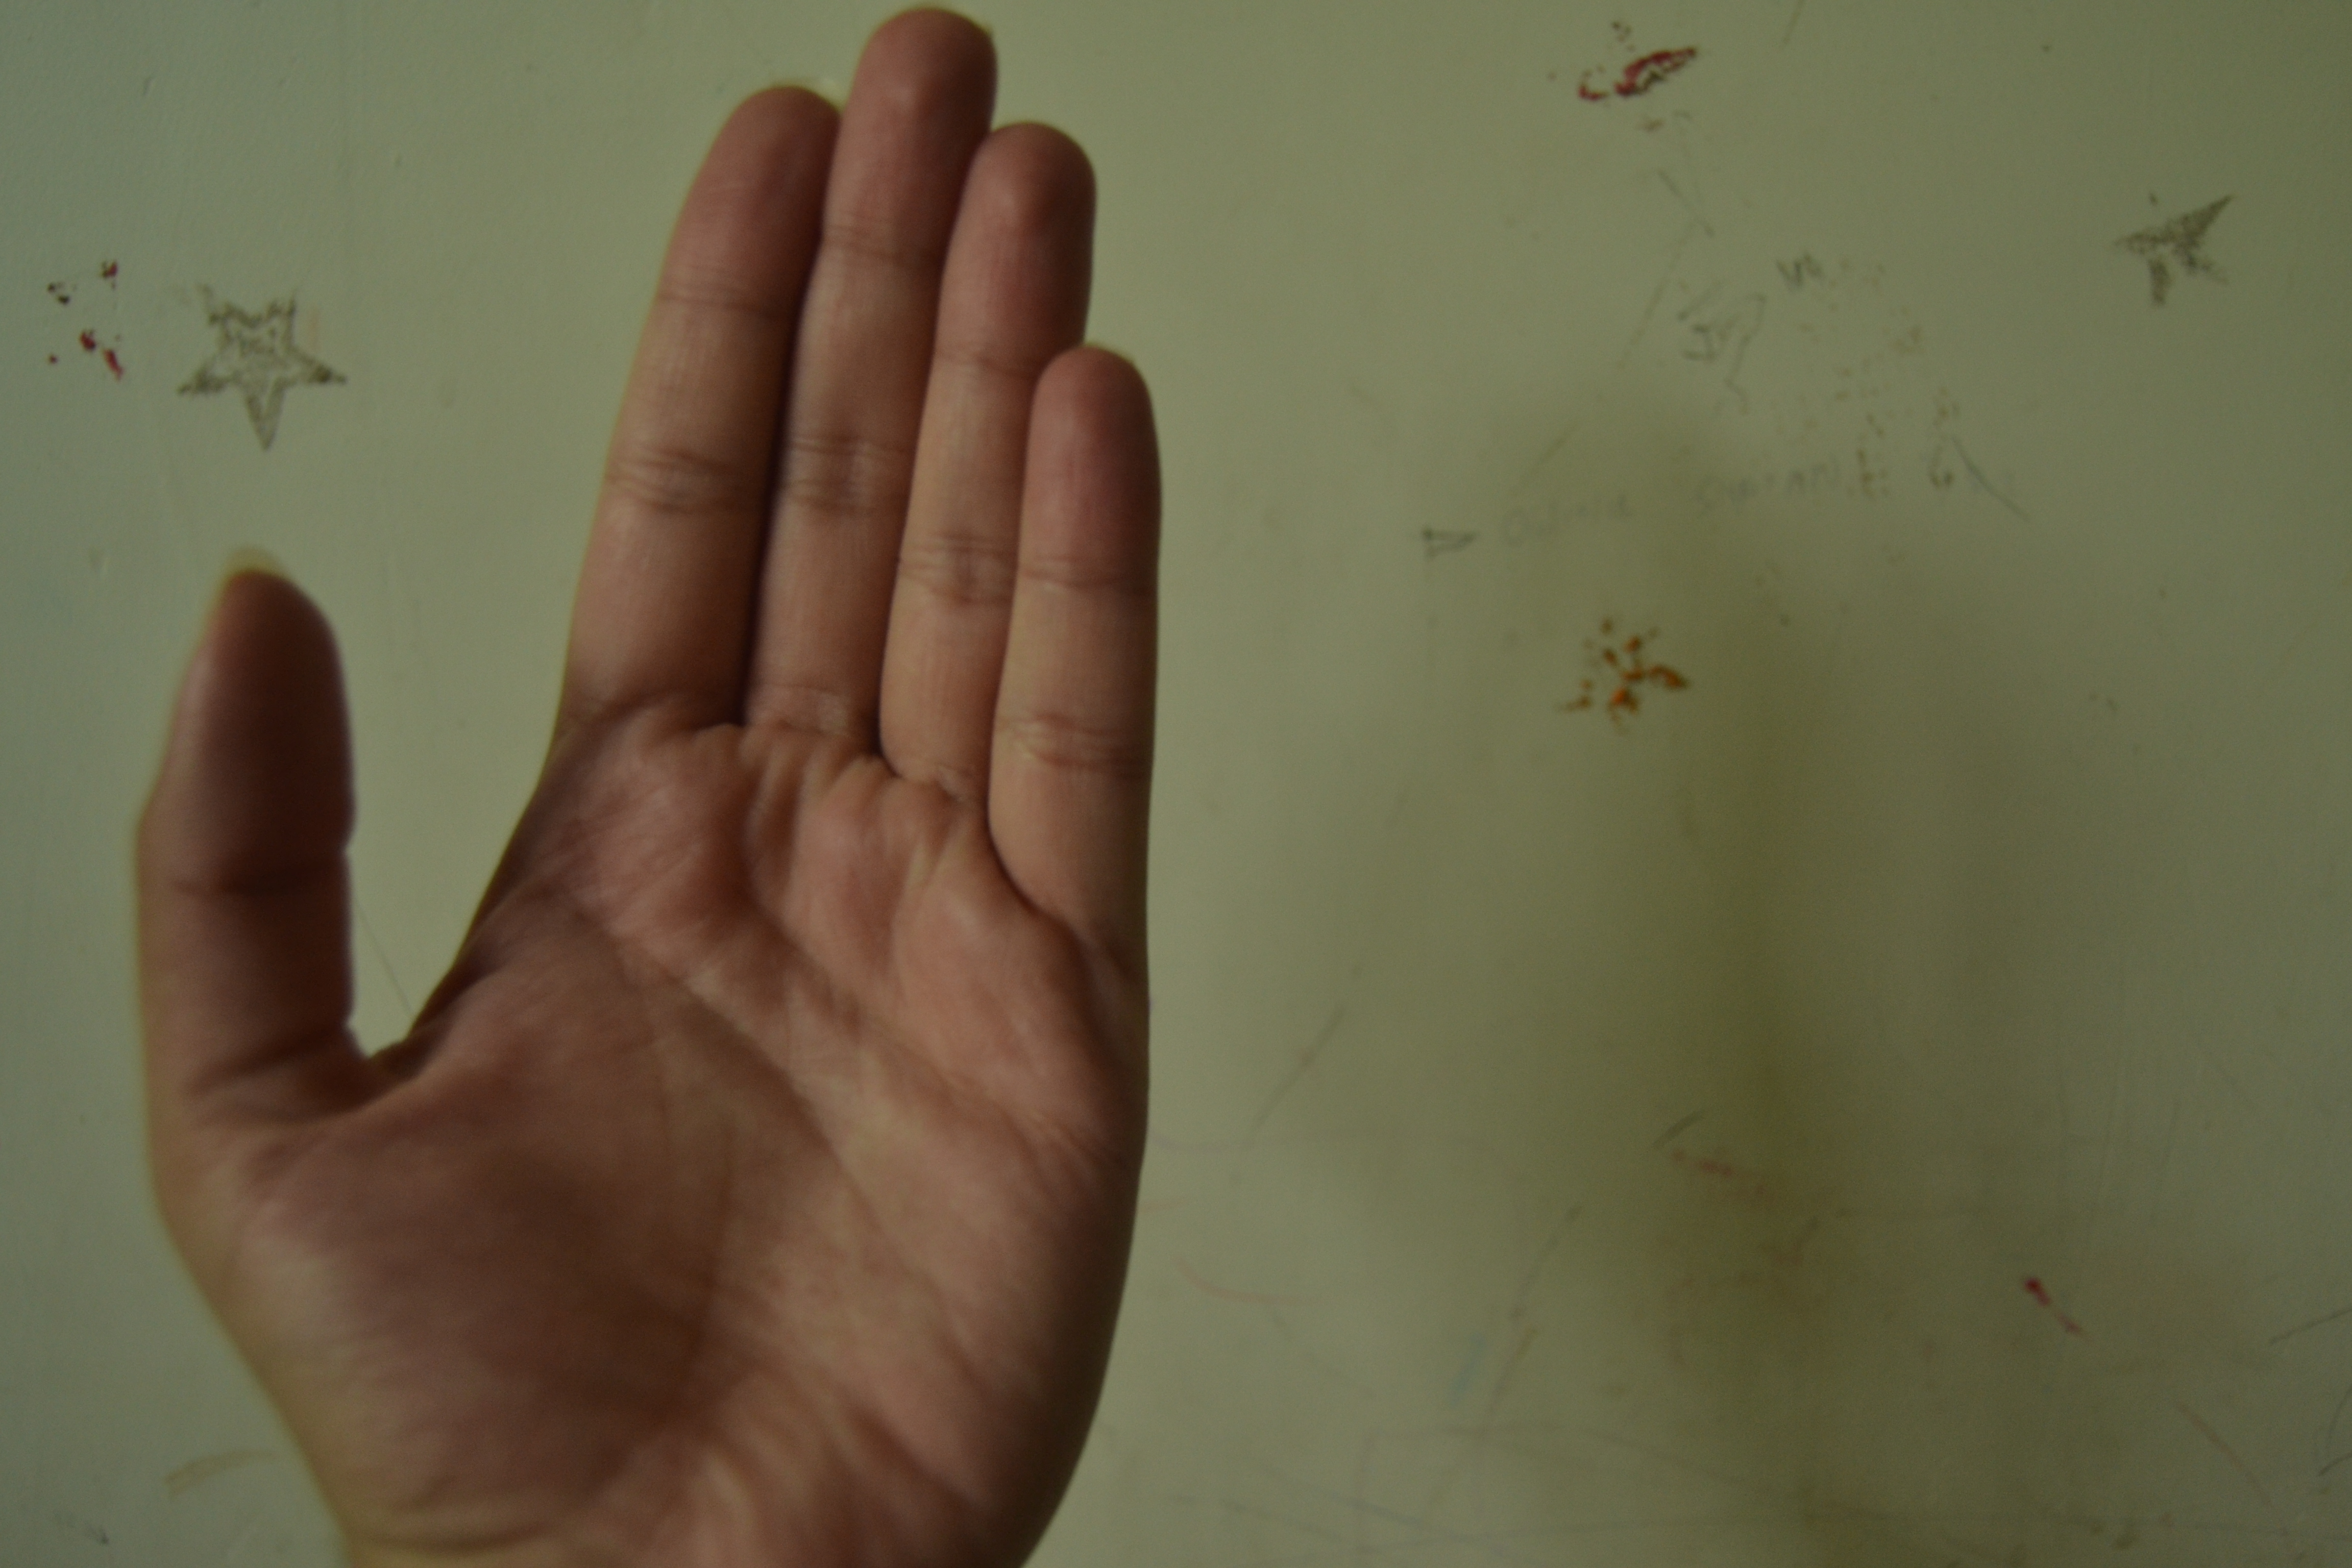move: (117, 12, 1274, 1547)
